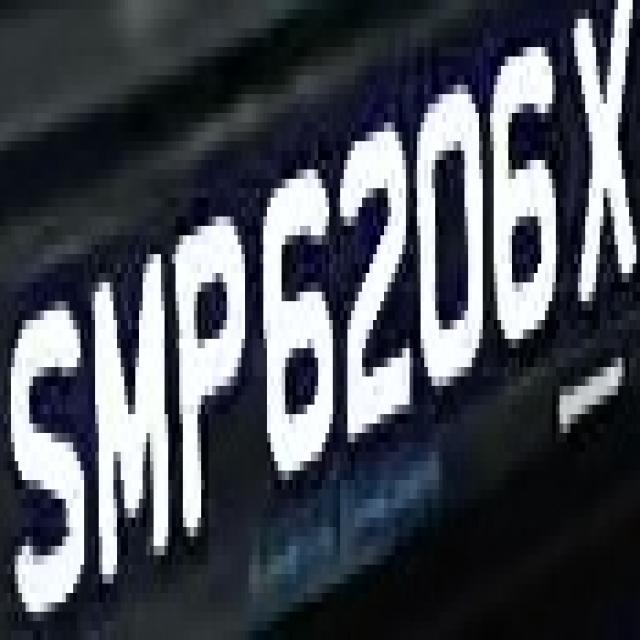0: (402, 84, 494, 404)
2: (336, 94, 414, 452)
6: (482, 47, 570, 367), (260, 151, 336, 498)
M: (88, 235, 179, 593)
P: (154, 188, 256, 536)
S: (0, 263, 88, 640)
X: (567, 19, 640, 339)
